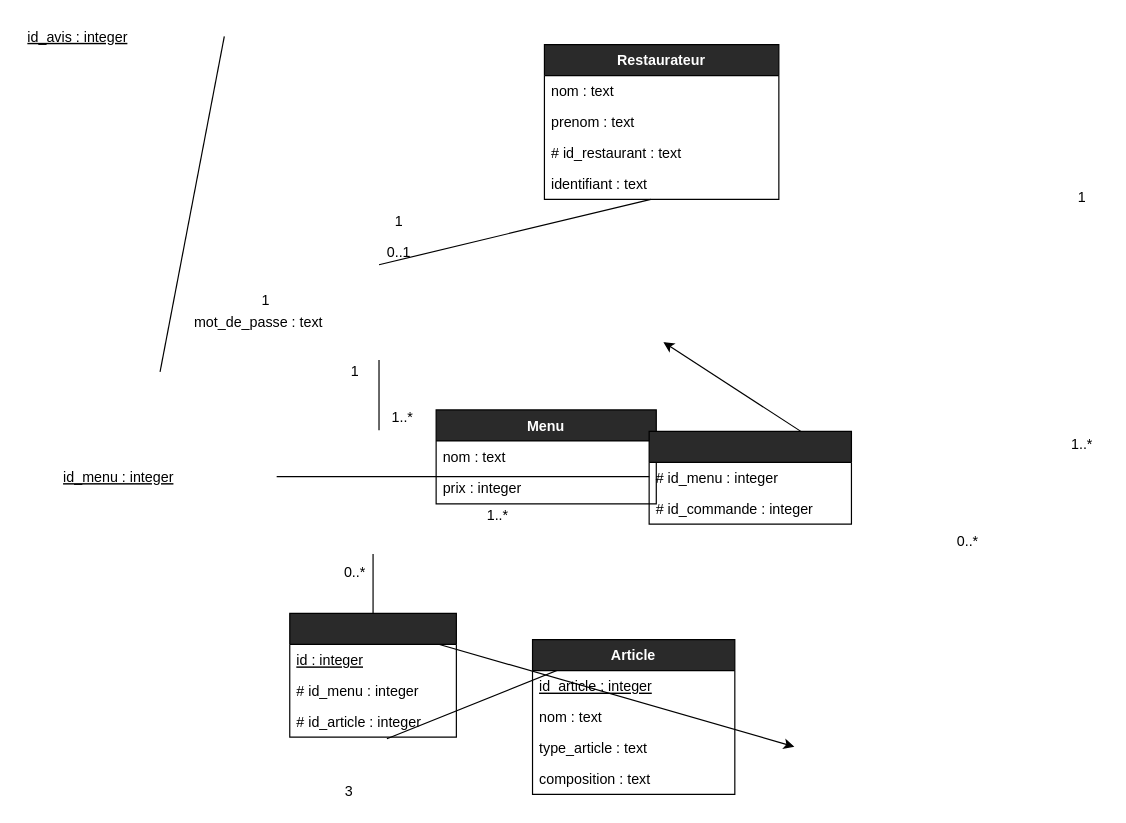
The diagram is 1126 pixels wide and 823 high, and some of its shapes have lost their labels. Each missing label, with the box of its shape:
Table_menu_article: (289, 612, 456, 737)
Table_menu_commande: (648, 430, 851, 524)
